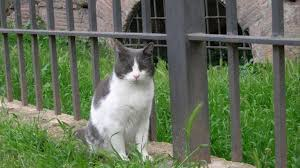cat: (67, 36, 172, 166)
